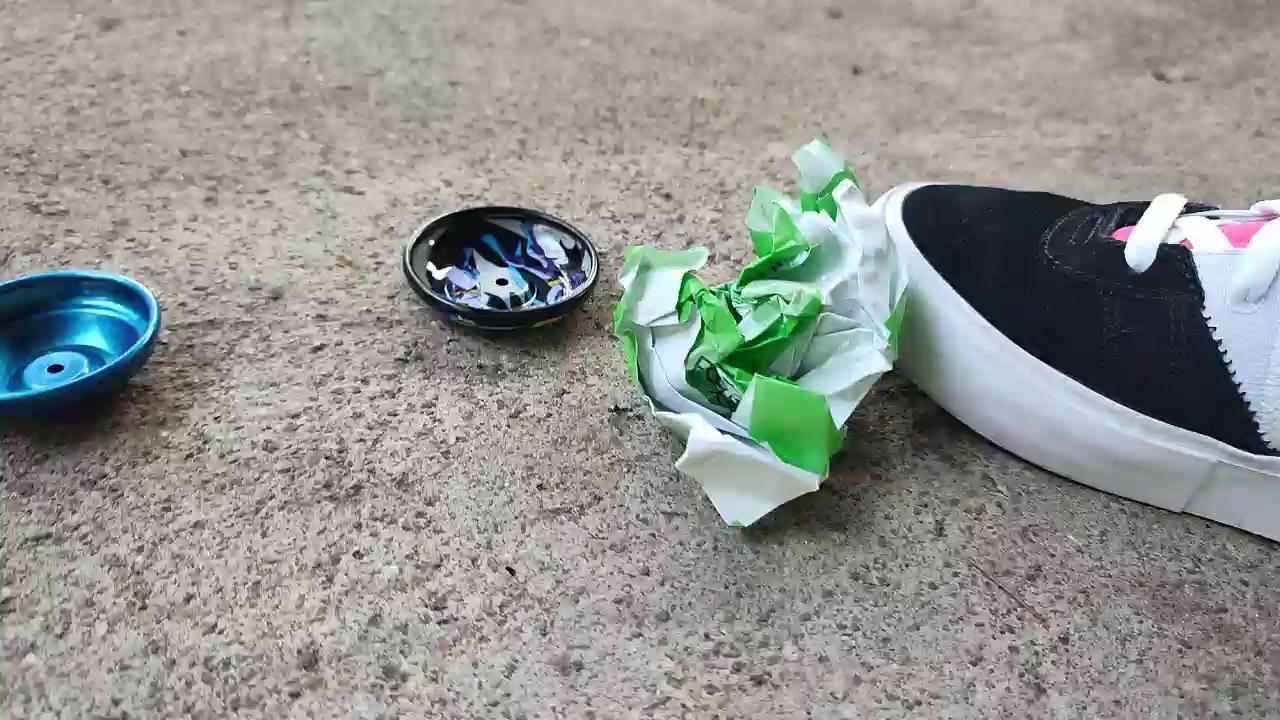Paper: (597, 120, 912, 539)
